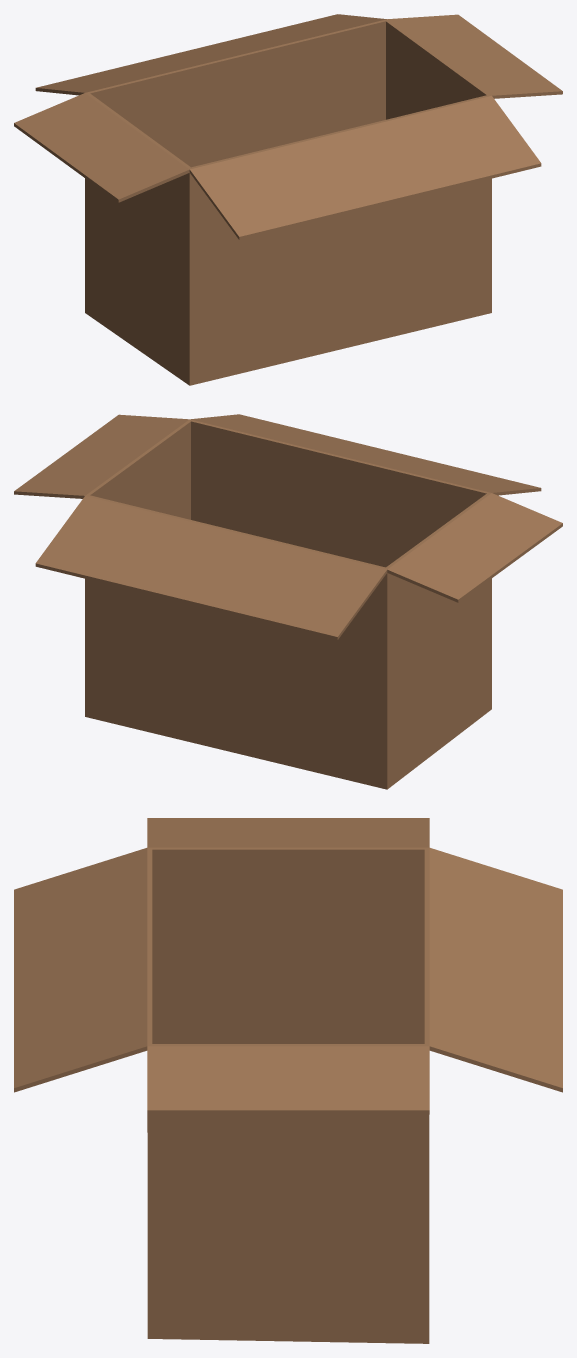
3 renders of one model, top to bottom at view 1: azimuth 30°, elevation 25°; view 2: azimuth 150°, elevation 25°; view 3: azimuth 270°, elevation 25°, orthographic. The views are drawn at different scales.
Visible parts, largest first — view 1: Cube; view 2: Cube; view 3: Cube.
Boxes of the visible parts, x1,y1,x2,y2 form: Cube: (14, 14, 562, 385); Cube: (14, 414, 562, 789); Cube: (14, 818, 562, 1343).
Bounding box in the file's own units: 73.53 × 34.95 × 58.4.
